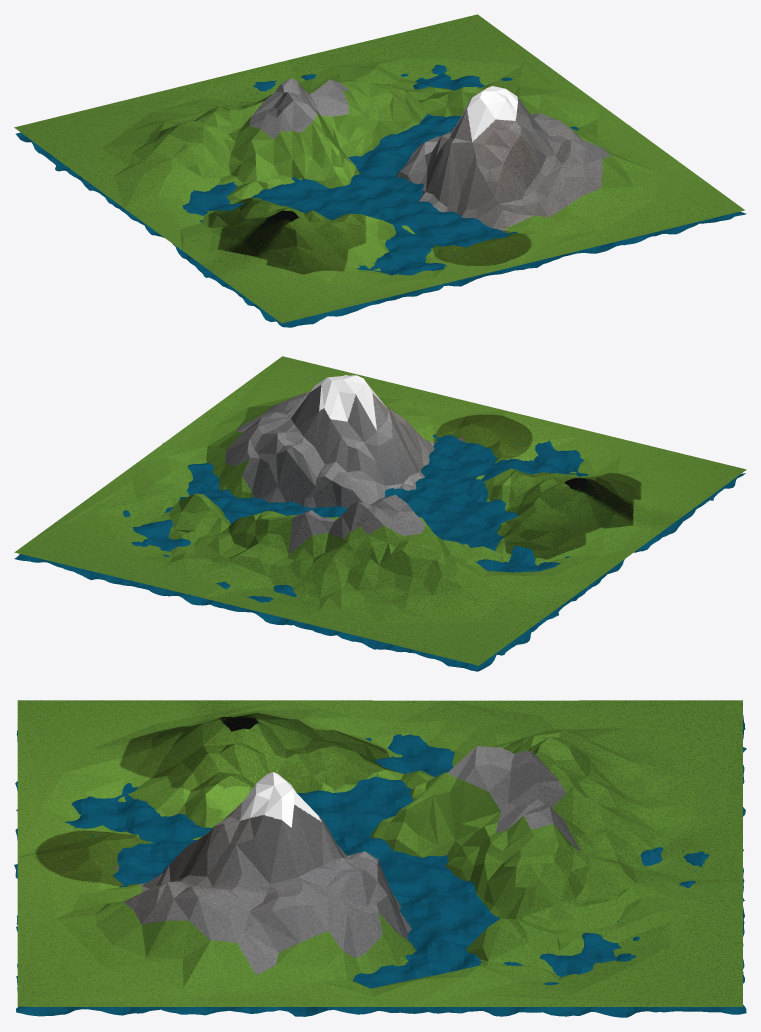
Rendered from landscape.glb.
3 renders of one model, top to bottom at view 1: azimuth 30°, elevation 25°; view 2: azimuth 150°, elevation 25°; view 3: azimuth 270°, elevation 25°, orthographic. The views are drawn at different scales.
Visible parts, largest first — view 1: Landscape, Landscape_plane; view 2: Landscape, Landscape_plane; view 3: Landscape, Landscape_plane.
Part boxes in pixels (<box>): Landscape: <box>14,14,744,323</box>; Landscape_plane: <box>16,64,746,327</box>; Landscape: <box>14,356,746,665</box>; Landscape_plane: <box>14,434,745,671</box>; Landscape: <box>17,700,742,1006</box>; Landscape_plane: <box>14,715,746,1017</box>.
Bounding box in the file's own units: 10.15 × 2.38 × 10.1.
4 materials, 3 textured.
